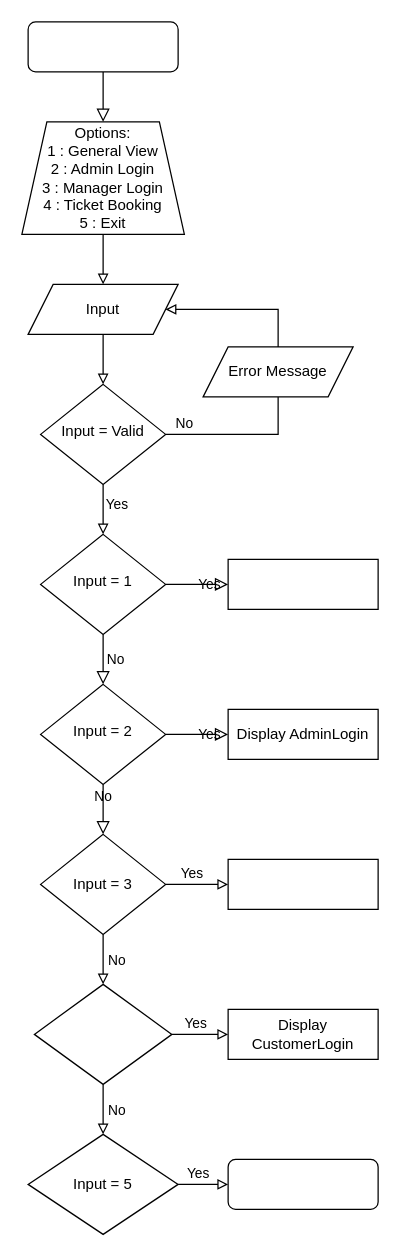
Image size: 400x1256. Some labels were removed from this diagram. Here are the shapes that lost their labels. From the top down, the centre of each, then its label:
(x=102, y=46): Start
(x=302, y=583): Display GeneralView
(x=302, y=883): Display ManagerLogin
(x=102, y=1033): Input = 4
(x=302, y=1183): End
